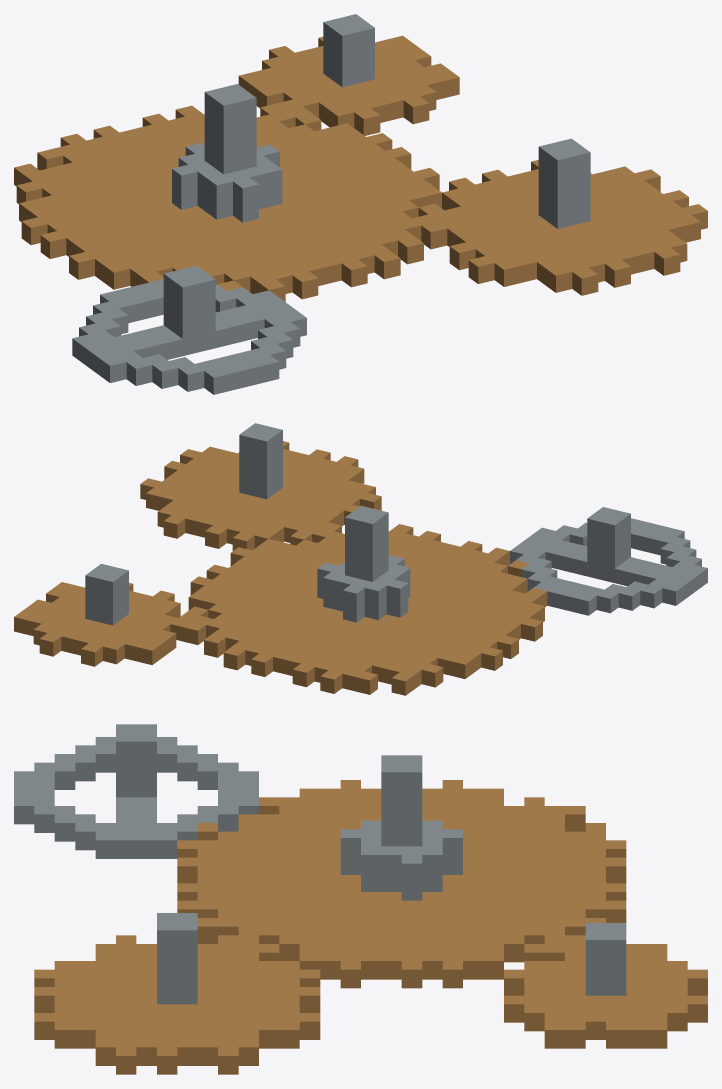
Rendered from clockworks.glb.
3 views of the same model, one above another, from view 1: azimuth 30°, elevation 25°; view 2: azimuth 150°, elevation 25°; view 3: azimuth 270°, elevation 25° (orthographic). The views are drawn at different scales.
Parts seen in each view (by area): view 1: clockworks:compound; view 2: clockworks:compound; view 3: clockworks:compound.
Boxes of the visible parts, x1,y1,x2,y2 form: clockworks:compound: (14, 14, 707, 394); clockworks:compound: (14, 423, 707, 695); clockworks:compound: (14, 724, 707, 1074).
Size of the model in its own units: 0.074 by 0.014 by 0.068.
